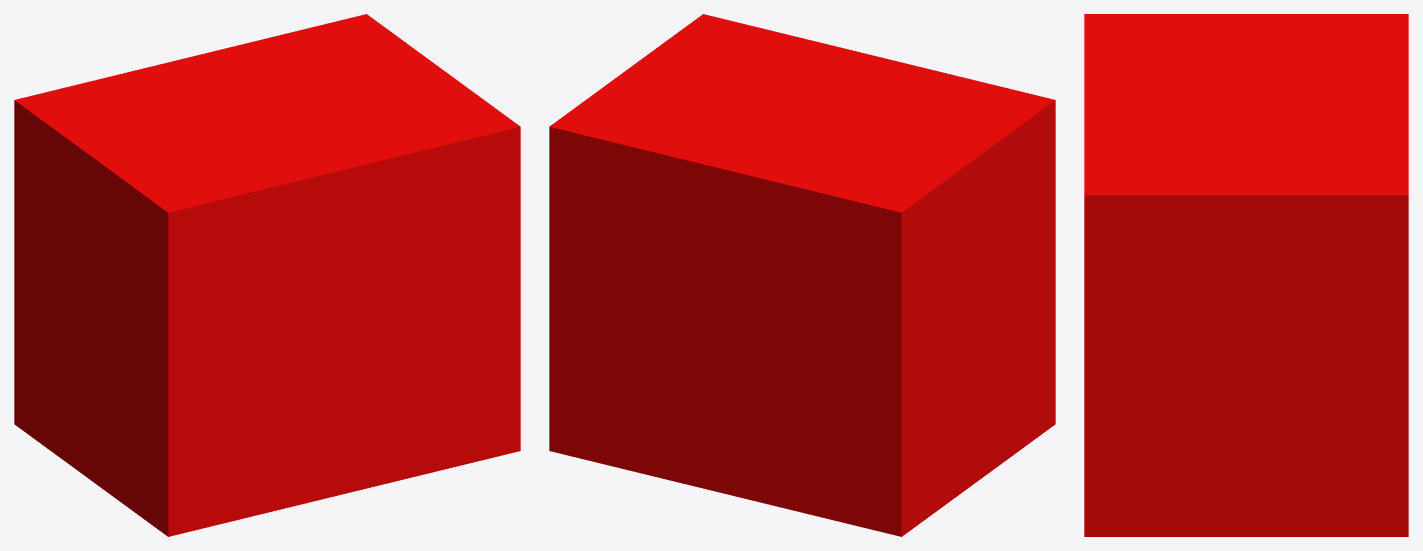
The model's file is arm_r_trapezoid_col.dae.
3 renders of one model, left to right at view 1: azimuth 30°, elevation 25°; view 2: azimuth 150°, elevation 25°; view 3: azimuth 270°, elevation 25°, orthographic. The views are drawn at different scales.
Visible parts, largest first — view 1: node0; view 2: node0; view 3: node0.
Part boxes in pixels (x1=…): node0: x1=14, y1=14, x2=520, y2=536; node0: x1=549, y1=14, x2=1055, y2=536; node0: x1=1084, y1=14, x2=1408, y2=536.
Bounding box in the file's own units: 0.0147 × 0.0129 × 0.0111.
